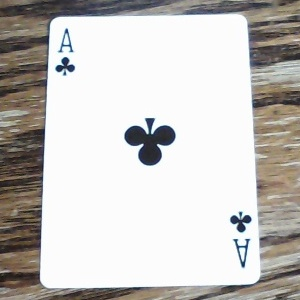card: (39, 12, 261, 288)
